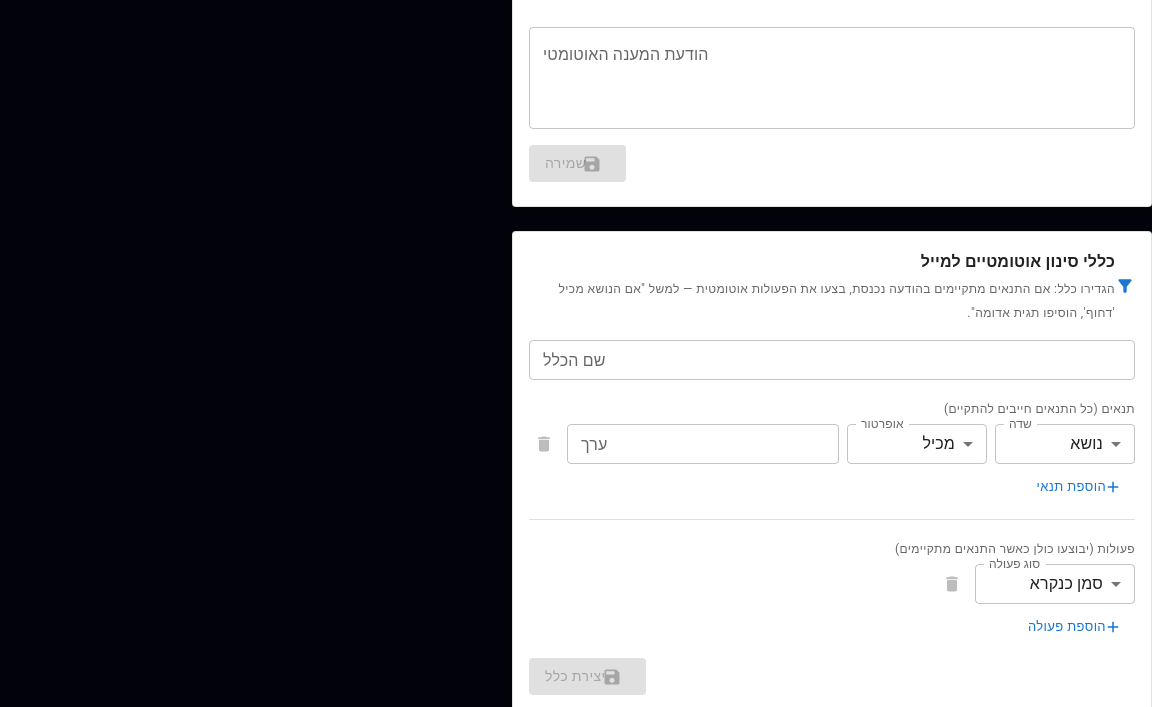
Test case: ProfileSettings — email rules builder (TODO_SPEC.md "משימה 17") › adding and removing condition rows works, and remove re-disables at one row
(page scrolled)
Expected: the field with test id "rule-condition-value-0" is shown, [567, 424, 839, 464]
Step 1. Click the button with test id "add-condition-button" → x=1083, y=487, box [1032, 472, 1135, 503]
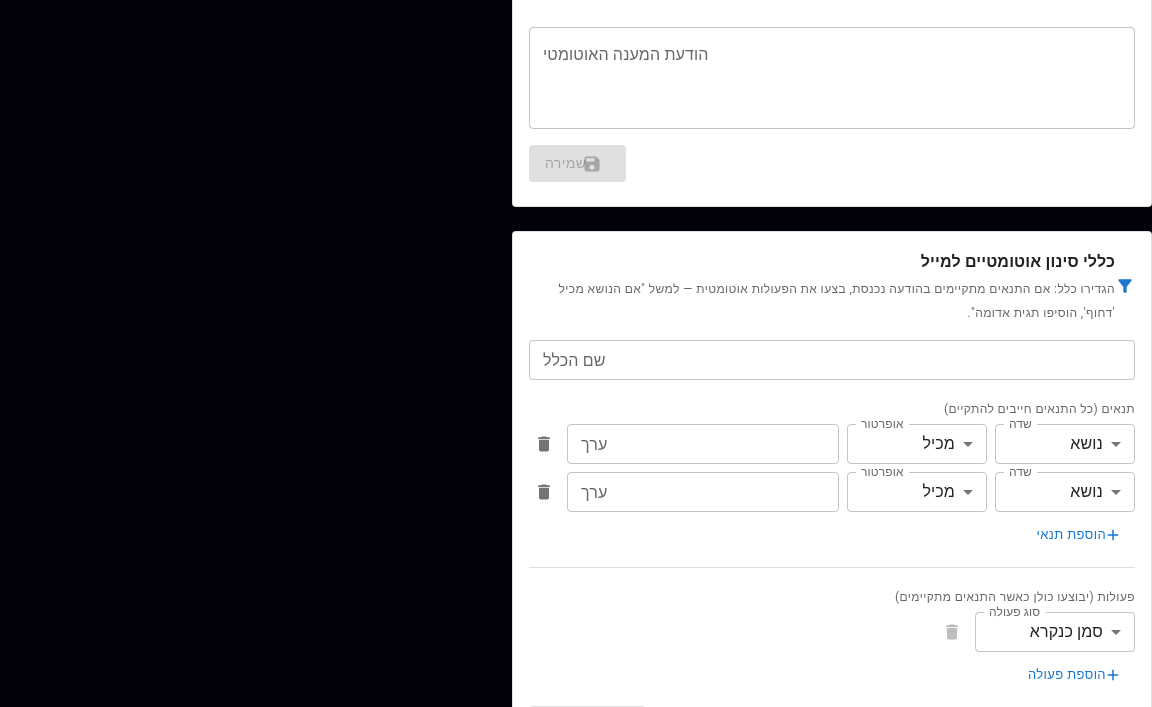
Expected: the field with test id "rule-condition-value-1" is shown, [567, 472, 839, 512]
Expected: the button with test id "remove-condition-0" is enabled, [529, 429, 559, 459]
Step 2. Click the button with test id "remove-condition-1" → x=544, y=492, box [529, 477, 559, 507]
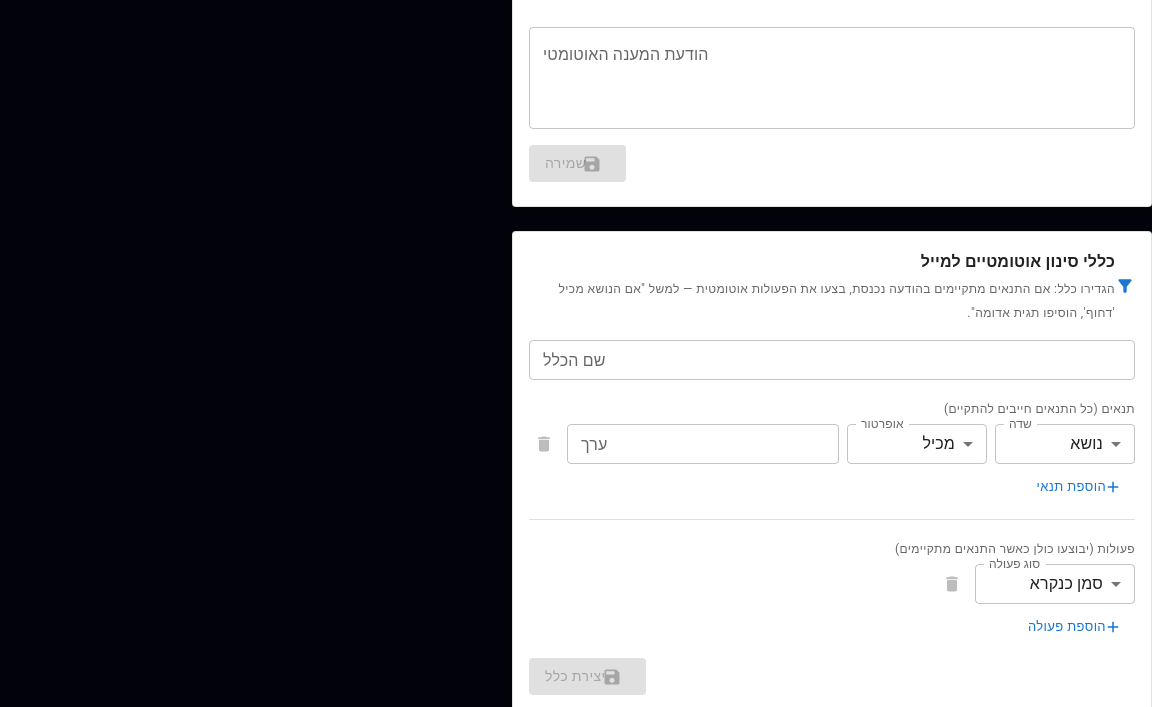
Expected: the field with test id "rule-condition-value-1" is gone
Expected: the button with test id "remove-condition-0" is disabled, [529, 429, 559, 459]
